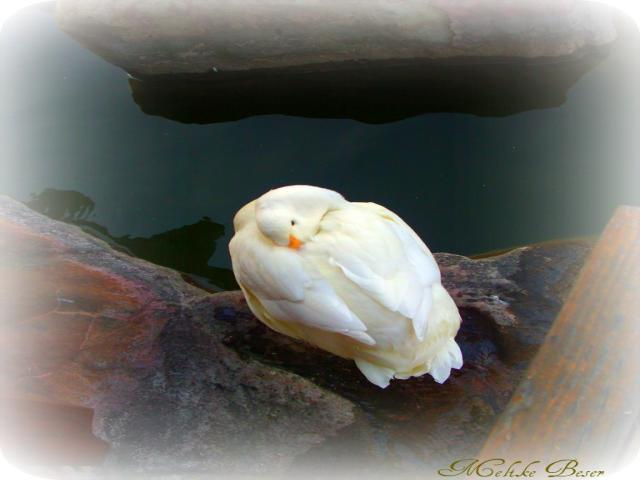Bird: (226, 183, 466, 386)
